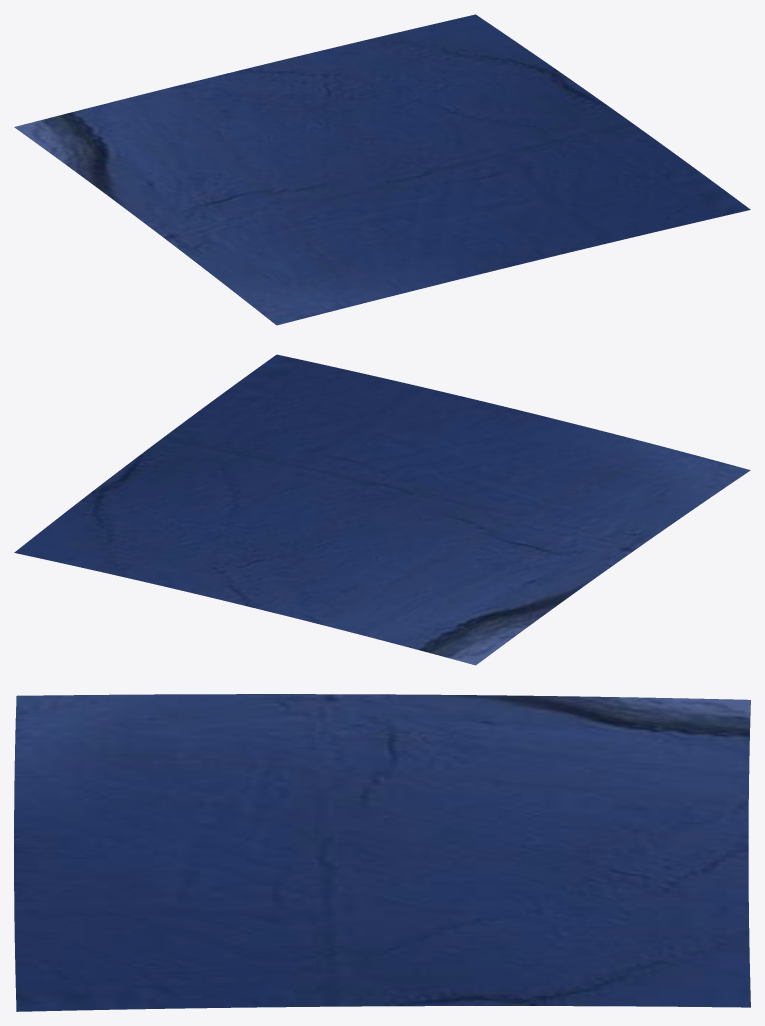
3 views of the same model, one above another, from view 1: azimuth 30°, elevation 25°; view 2: azimuth 150°, elevation 25°; view 3: azimuth 270°, elevation 25° (orthographic). The views are drawn at different scales.
Size of the model in its own units: 265872 by 2708 by 262032.
1 material, 1 textured.
